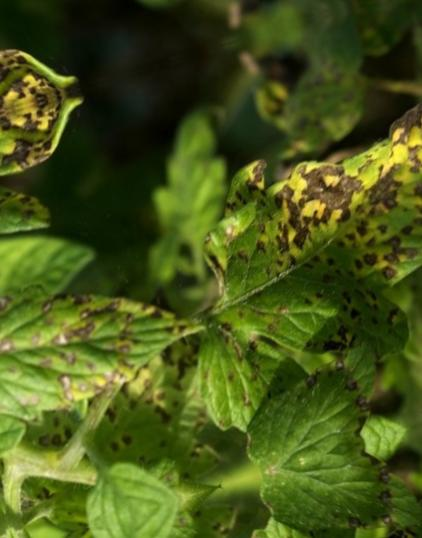Tomato Septoria leaf spot: (180, 76, 422, 381), (0, 233, 219, 432), (0, 94, 116, 318)
